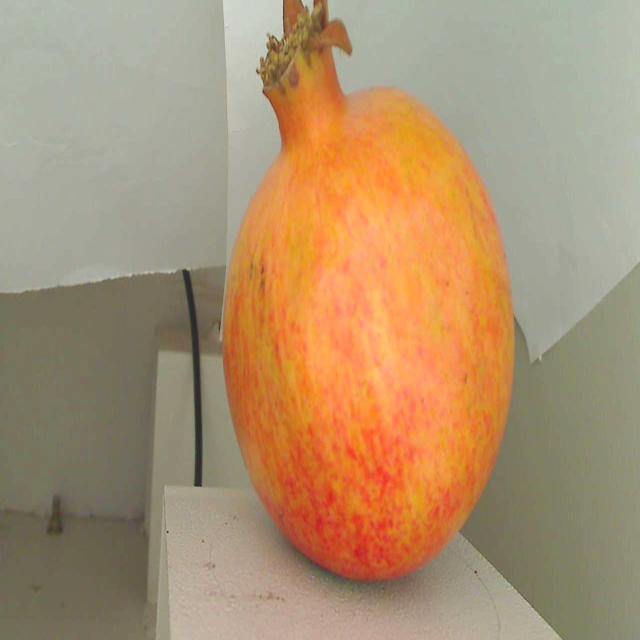pomegranate: (212, 0, 526, 589)
